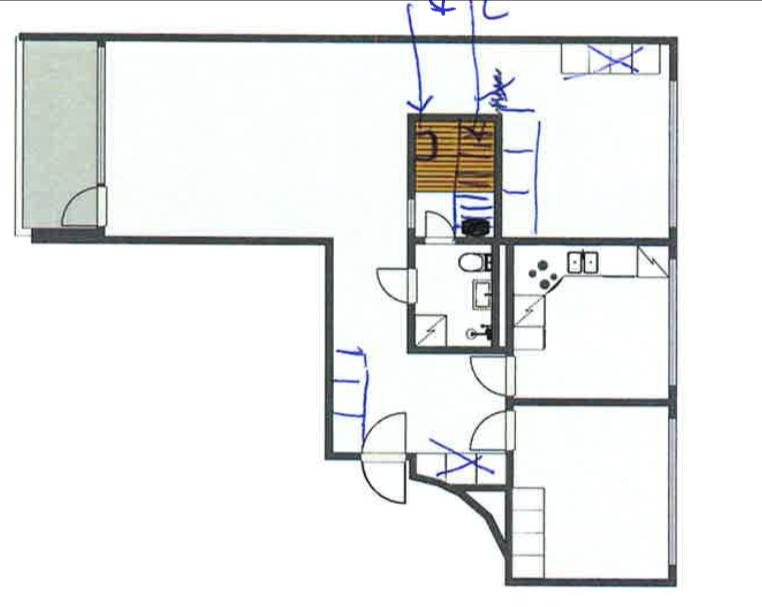door: (359, 450, 411, 507), (359, 408, 411, 460), (468, 350, 522, 400), (468, 404, 519, 452), (61, 183, 111, 229), (375, 266, 420, 305), (422, 206, 457, 247)
window: (665, 74, 685, 234), (664, 409, 681, 569), (93, 40, 109, 186), (664, 253, 680, 392), (403, 195, 419, 234)
